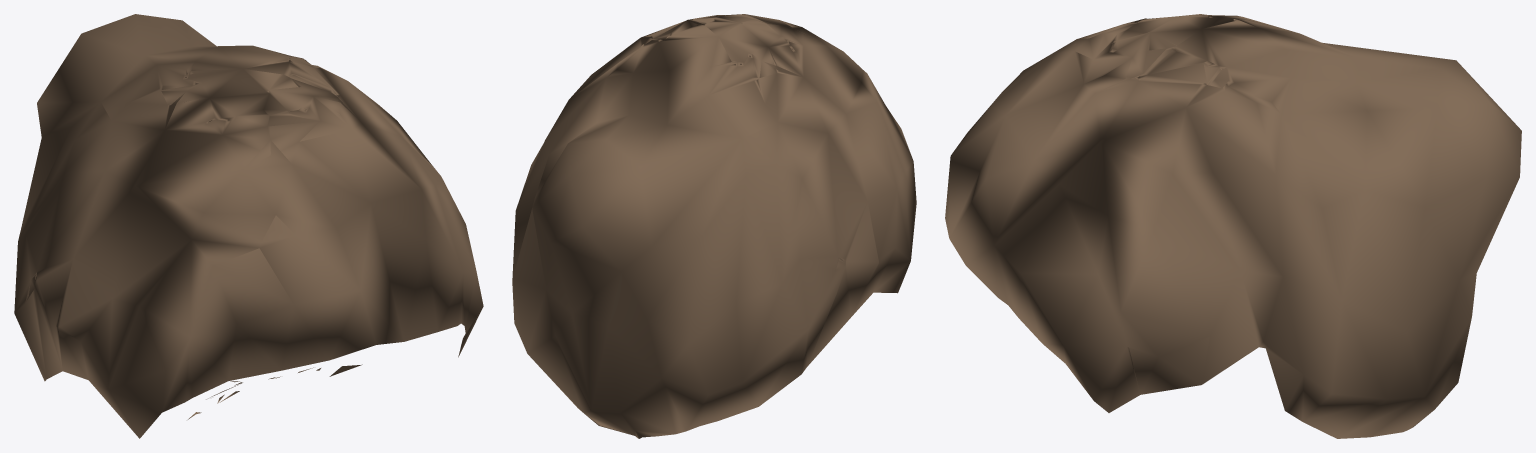
File: hair32-female-bun-a3.glb
The picture shows the model from 3 angles, left to right: view 1: azimuth 30°, elevation 25°; view 2: azimuth 150°, elevation 25°; view 3: azimuth 270°, elevation 25°; orthographic projection. The views are drawn at different scales.
Visible parts, largest first — view 1: hair32-bun; view 2: hair32-bun; view 3: hair32-bun.
Boxes of the visible parts, x1,y1,x2,y2 form: hair32-bun: [14, 14, 483, 438]; hair32-bun: [512, 14, 916, 438]; hair32-bun: [945, 14, 1521, 438].
Bounding box in the file's own units: 0.1579 × 0.1535 × 0.2073.
